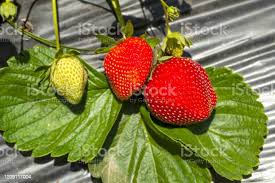ripe: (141, 51, 225, 127), (101, 35, 151, 106)
unripe: (43, 57, 91, 110)
